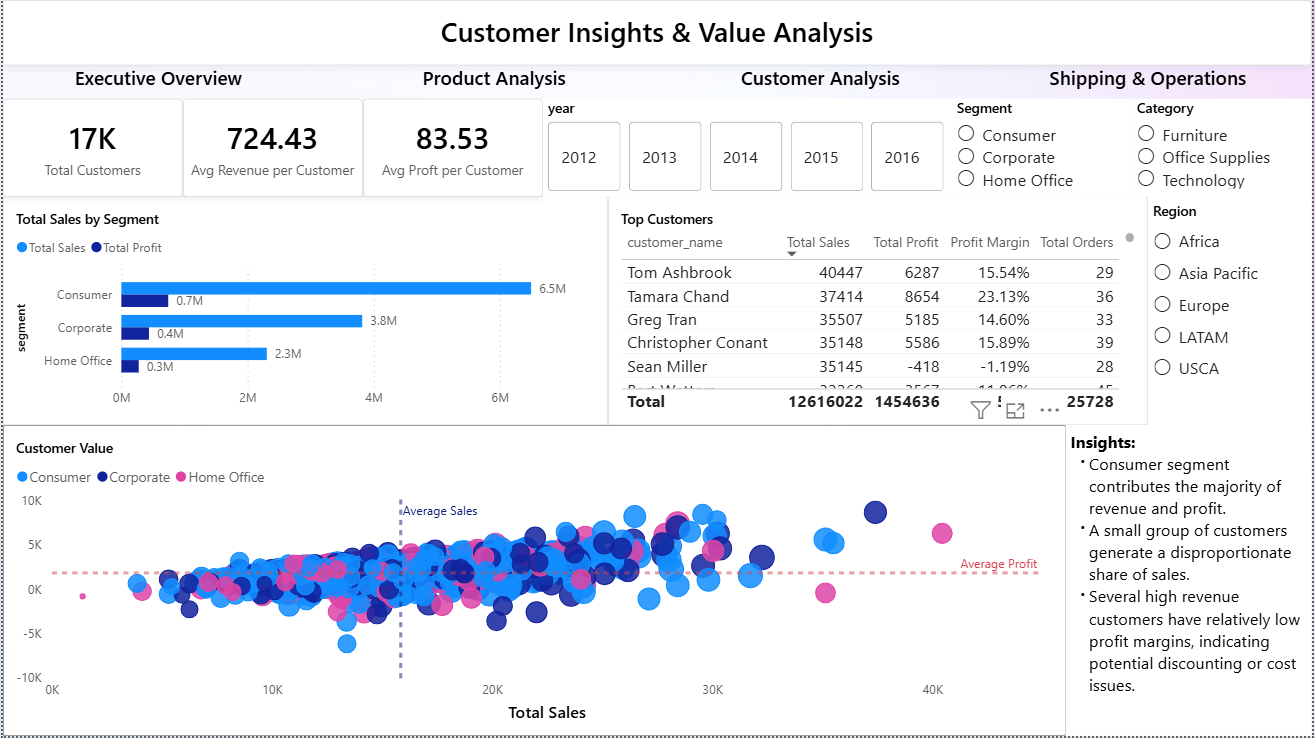

The page's visual inventory and layout, read from the dashboard file:
{"tool":"powerbi","page":{"name":"Customer Analysis","canvas":[1280,720],"ordinal":2},"visuals":[{"type":"clusteredBarChart","title":"Total Sales by Segment","fields":{"Category":["dim_customer.segment"],"Y":["BaseMeasures.Total Sales","BaseMeasures.Total Profit"]},"box":[0,192,592,224],"z":0},{"type":"tableEx","title":"Top Customers","fields":{"Values":["dim_customer.customer_name","BaseMeasures.Total Sales","BaseMeasures.Total Profit","BaseMeasures.Profit Margin","BaseMeasures.Total Orders"]},"box":[592,192,528,224],"z":1000},{"type":"scatterChart","title":"Customer Value","fields":{"X":["BaseMeasures.Total Sales"],"Y":["BaseMeasures.Total Profit"],"Series":["dim_customer.segment"],"Size":["BaseMeasures.Total Orders"],"Category":["dim_customer.customer_name"]},"box":[0,416,1040,304],"z":2000},{"type":"card","fields":{"Values":["BaseMeasures.Customer Analysis Title"]},"box":[0,0,1280,64],"z":3000},{"type":"card","fields":{"Values":["BaseMeasures.Total Customers"]},"box":[0,96,176,96],"z":4000},{"type":"card","fields":{"Values":["BaseMeasures.Avg Proft per Customer"]},"box":[352,96,176,96],"z":5000},{"type":"card","fields":{"Values":["BaseMeasures.Avg Revenue per Customer"]},"box":[176,96,176,96],"z":6000},{"type":"textbox","box":[1040,416,240,304],"z":7000},{"type":"advancedSlicerVisual","fields":{"Values":["dim_date.year Hierarchy.year"]},"box":[528,96,400,96],"z":8000},{"type":"listSlicer","title":"Segment","fields":{"Values":["dim_customer.segment"]},"box":[928,96,176,96],"z":9000},{"type":"listSlicer","title":"Category","fields":{"Values":["dim_product.category"]},"box":[1104,96,176,96],"z":10000},{"type":"listSlicer","title":"Region","fields":{"Values":["dim_geo.region"]},"box":[1120,192,160,224],"z":11000},{"type":"actionButton","title":"Executive Overview","box":[0,64,304,32],"z":11001},{"type":"actionButton","title":"Product Analysis","box":[320,64,320,32],"z":11002},{"type":"actionButton","title":"Customer Analysis","box":[640,64,320,32],"z":11003},{"type":"actionButton","title":"Shipping & Operations","box":[960,64,320,32],"z":11004}]}

Visuals, with their boxes in screenshot pixels (x1, y1, x2, y2), scaled from the page's 1280x720 canvas onto the 1315x738 screenshot:
"Total Sales by Segment" clusteredBarChart: <region>0, 197, 608, 426</region>
"Top Customers" tableEx: <region>608, 197, 1151, 426</region>
"Customer Value" scatterChart: <region>0, 426, 1068, 737</region>
card - BaseMeasures.Customer Analysis Title: <region>0, 0, 1314, 66</region>
card - BaseMeasures.Total Customers: <region>0, 98, 181, 197</region>
card - BaseMeasures.Avg Proft per Customer: <region>362, 98, 542, 197</region>
card - BaseMeasures.Avg Revenue per Customer: <region>181, 98, 362, 197</region>
textbox: <region>1068, 426, 1314, 737</region>
advancedSlicerVisual - dim_date.year Hierarchy.year: <region>542, 98, 953, 197</region>
"Segment" listSlicer: <region>953, 98, 1134, 197</region>
"Category" listSlicer: <region>1134, 98, 1314, 197</region>
"Region" listSlicer: <region>1151, 197, 1314, 426</region>
"Executive Overview" actionButton: <region>0, 66, 312, 98</region>
"Product Analysis" actionButton: <region>329, 66, 658, 98</region>
"Customer Analysis" actionButton: <region>658, 66, 986, 98</region>
"Shipping & Operations" actionButton: <region>986, 66, 1314, 98</region>
